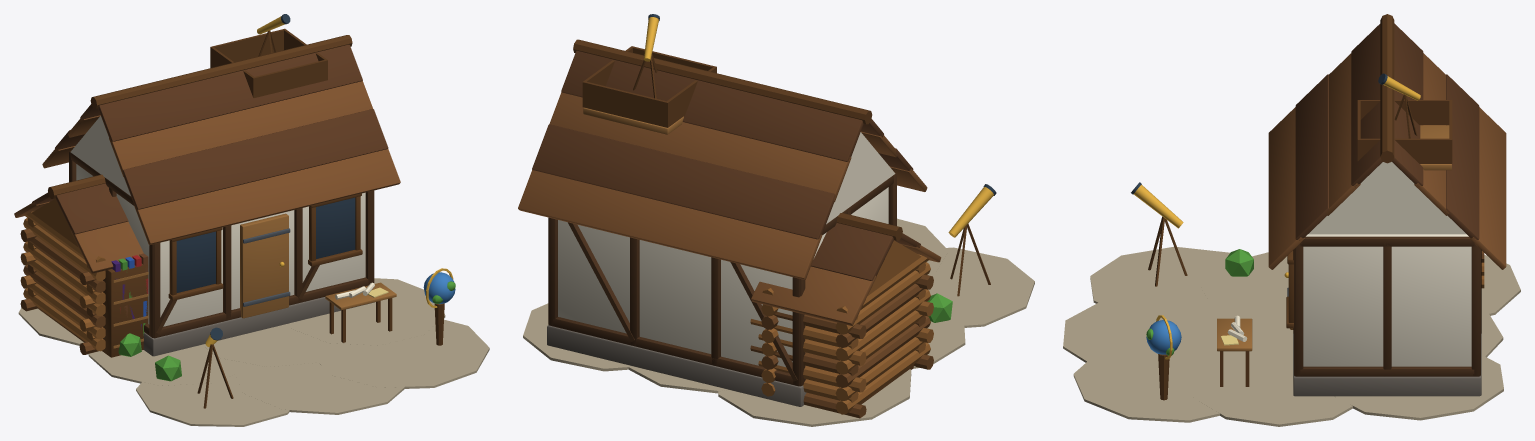
File: akademia_poz08.glb
The picture shows the model from 3 angles, left to right: view 1: azimuth 30°, elevation 25°; view 2: azimuth 150°, elevation 25°; view 3: azimuth 270°, elevation 25°; orthographic projection. The views are drawn at different scales.
Visible parts, largest first — view 1: akademia_poz08; view 2: akademia_poz08; view 3: akademia_poz08.
Boxes of the visible parts, box(x1,y1,x2,y2) form: akademia_poz08: box(14, 14, 489, 426); akademia_poz08: box(518, 14, 1034, 426); akademia_poz08: box(1063, 14, 1520, 426).
Bounding box in the file's own units: 7.26 × 5.7 × 7.78.
